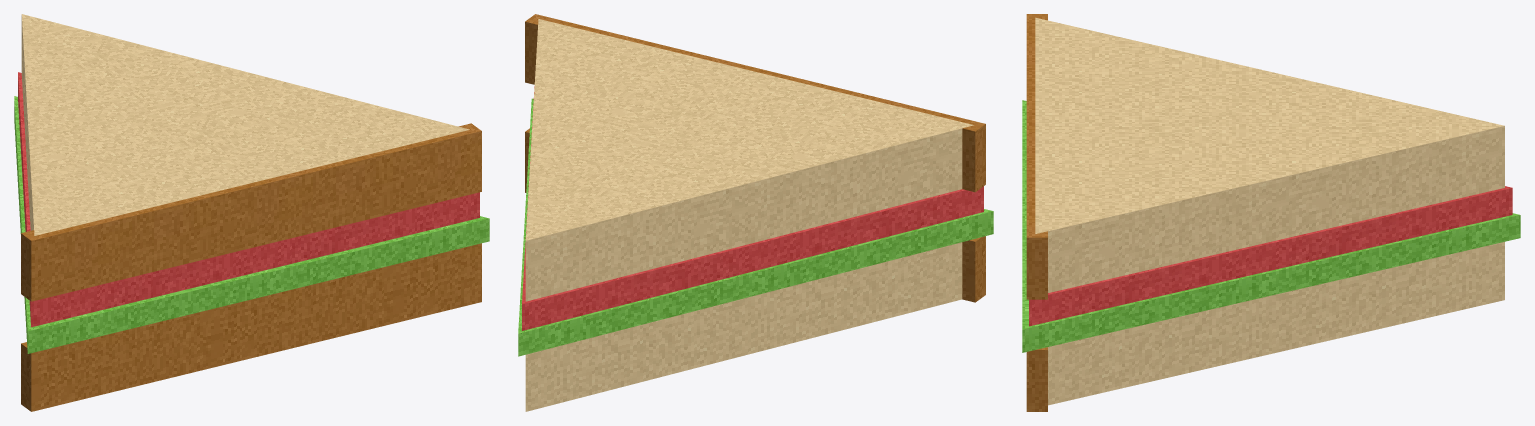
3 views of the same model, side by side, from view 1: azimuth 30°, elevation 25°; view 2: azimuth 150°, elevation 25°; view 3: azimuth 270°, elevation 25° (orthographic).
Visible parts, largest first — view 1: sandwich; view 2: sandwich; view 3: sandwich.
Part boxes in pixels (x1,y1,x2,y2): sandwich: (14, 14, 489, 411); sandwich: (518, 14, 993, 411); sandwich: (1022, 14, 1520, 411).
Size of the model in its own units: 0.1272 by 0.045 by 0.1166.
4 materials, 4 textured.
